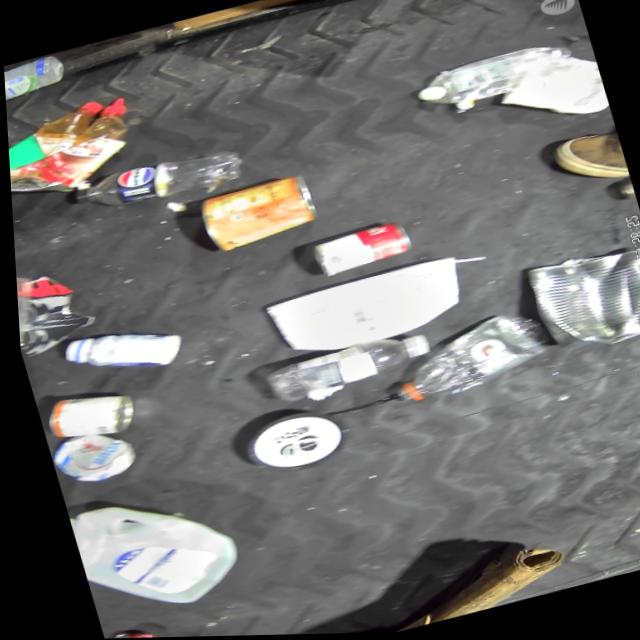can: (517, 240, 640, 365), (182, 167, 328, 258), (29, 379, 139, 453), (299, 216, 416, 281), (93, 614, 189, 639)
milk_jug: (58, 470, 252, 628)
plastic_bottle: (359, 307, 551, 412), (58, 140, 249, 230), (254, 324, 430, 407), (404, 40, 574, 121), (3, 53, 70, 114)
